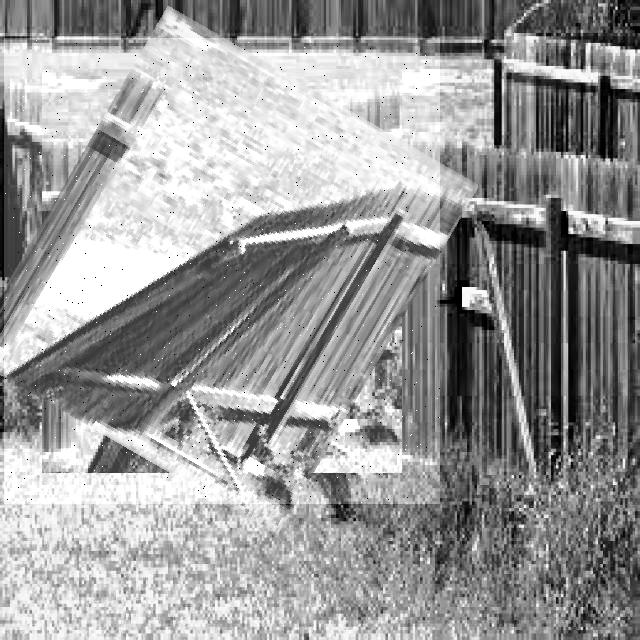anomaly-fence: (4, 38, 440, 504)
